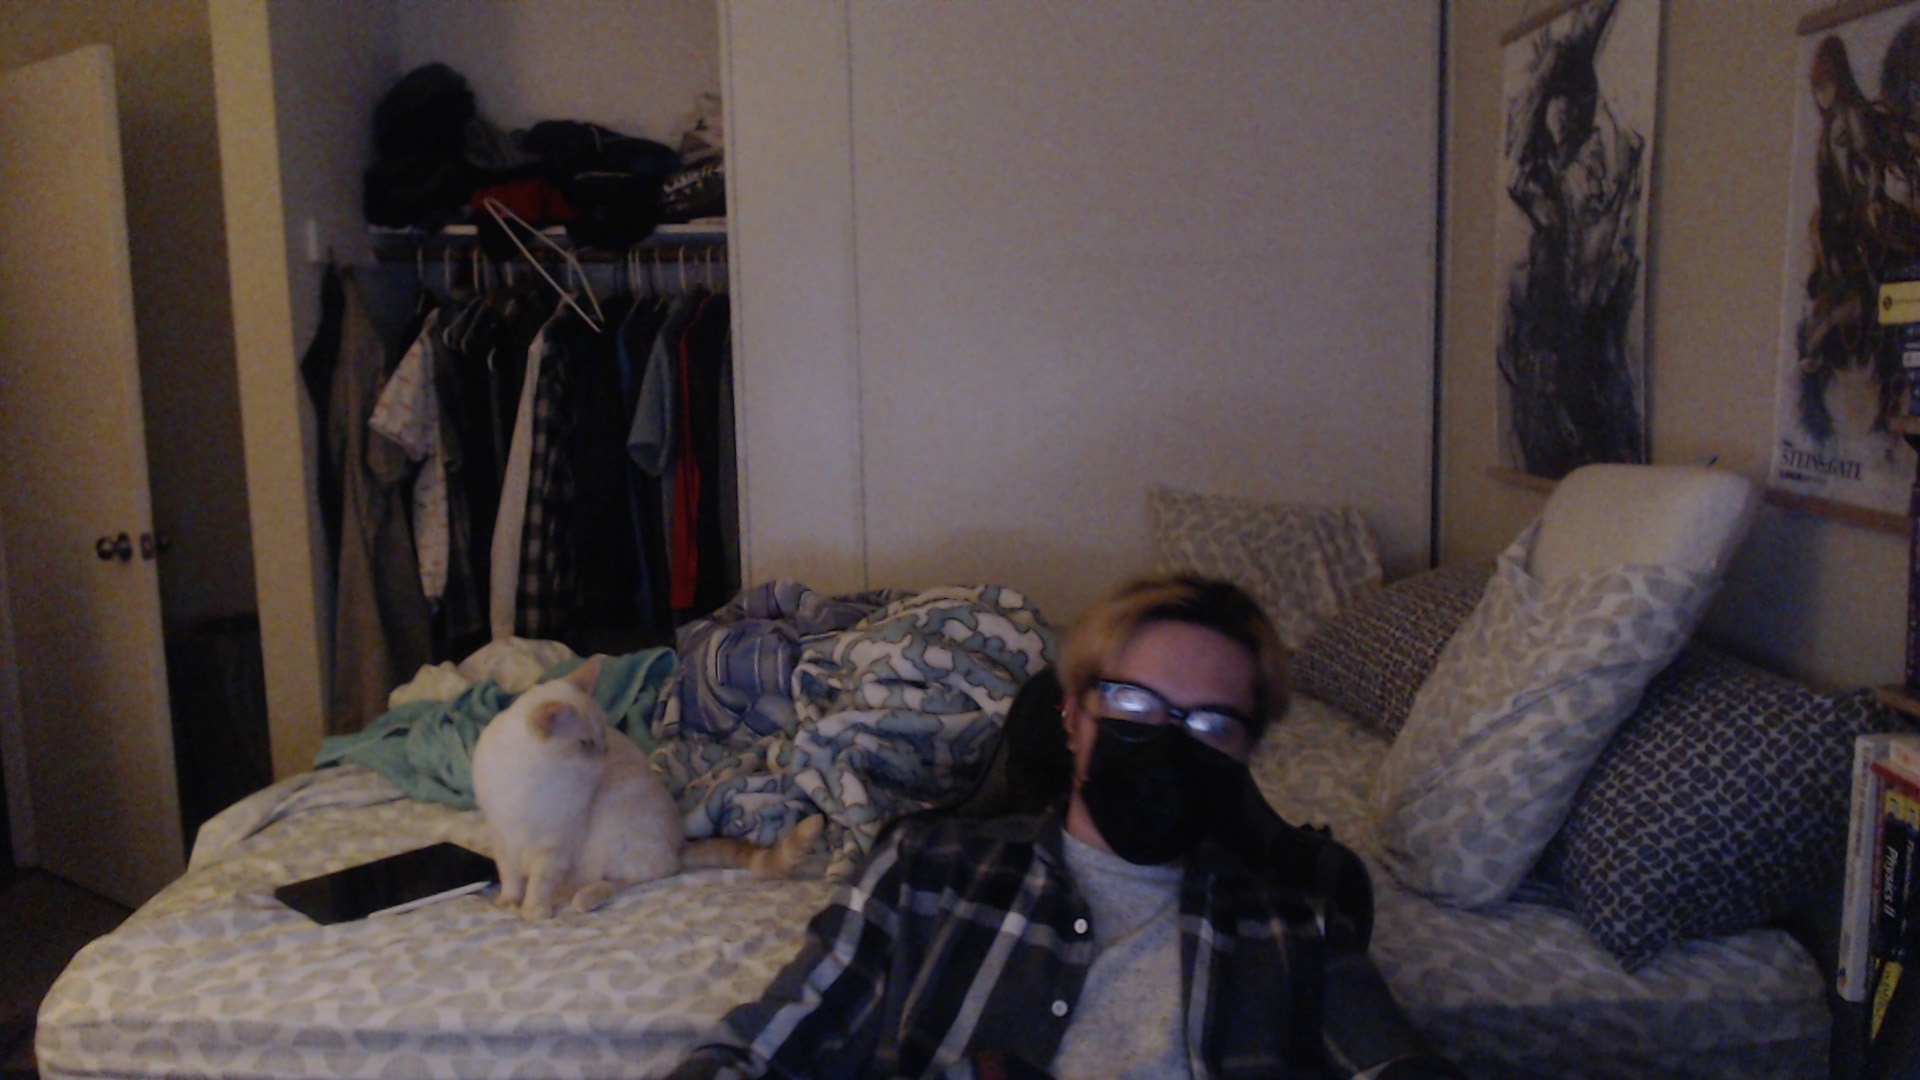glasses: (1080, 657, 1261, 767)
masked: (1072, 636, 1259, 849)
